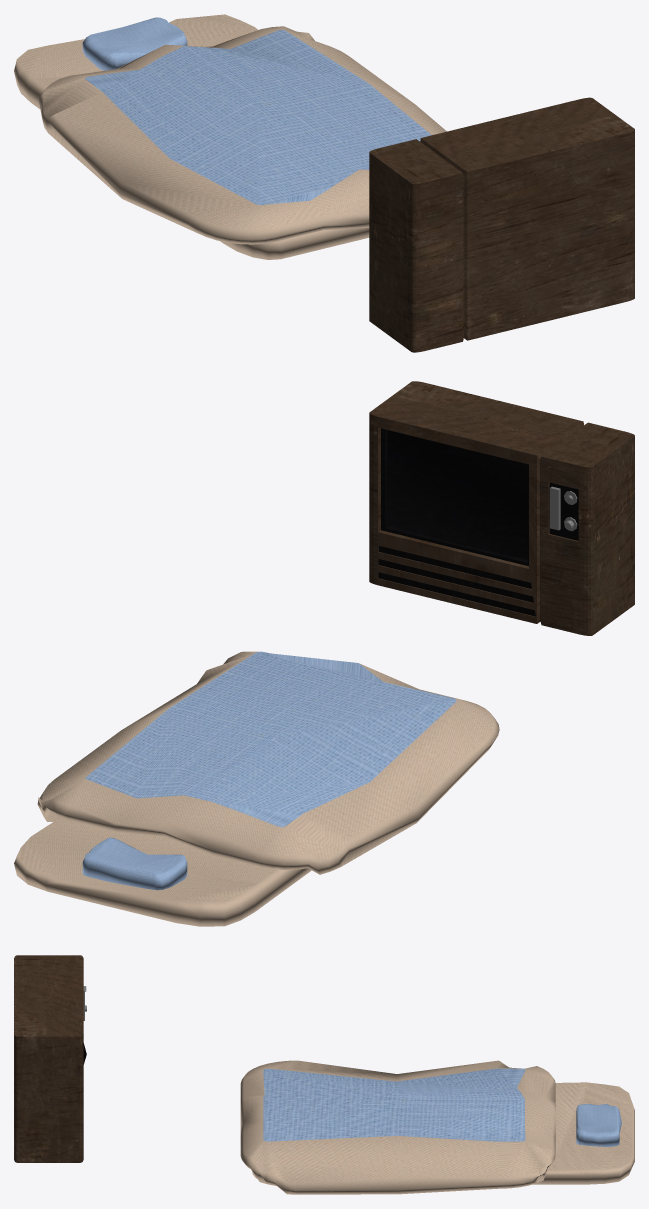
The model's file is ブラウン管テレビと布団.fbx.
The picture shows the model from 3 angles, top to bottom: view 1: azimuth 30°, elevation 25°; view 2: azimuth 150°, elevation 25°; view 3: azimuth 270°, elevation 25°; orthographic projection. The views are drawn at different scales.
Visible parts, largest first — view 1: Cube.001, 立方体.002, 立方体, 立方体.001; view 2: Cube.001, 立方体.002, 立方体, 立方体.001; view 3: Cube.001, 立方体.002, 立方体, 立方体.001.
Boxes of the visible parts, x1,y1,x2,y2 form: Cube.001: (38, 26, 446, 244); 立方体.002: (369, 97, 634, 352); 立方体: (14, 14, 369, 259); 立方体.001: (82, 17, 187, 70); Cube.001: (37, 651, 499, 874); 立方体.002: (369, 381, 634, 635); 立方体: (14, 816, 311, 926); 立方体.001: (82, 837, 187, 890); Cube.001: (240, 1060, 555, 1194); 立方体.002: (14, 955, 86, 1162); 立方体: (251, 1082, 634, 1184); 立方体.001: (576, 1103, 621, 1146).
Size of the model in its own units: 248 by 156 by 593.
Materials: 6 (6 with a texture image).
